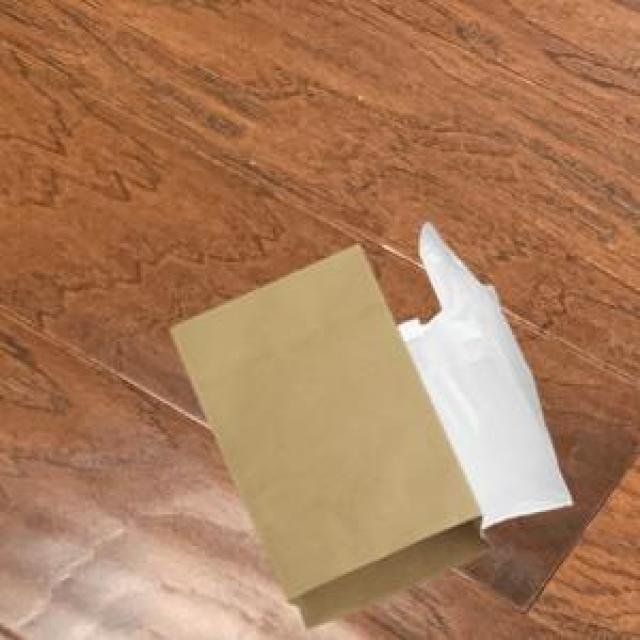paper: (166, 241, 486, 623)
